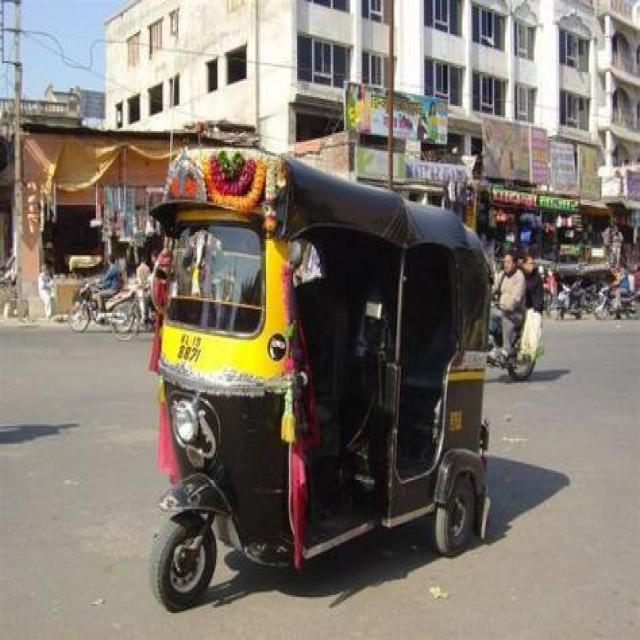auto ahead at: (138, 133, 494, 616)
